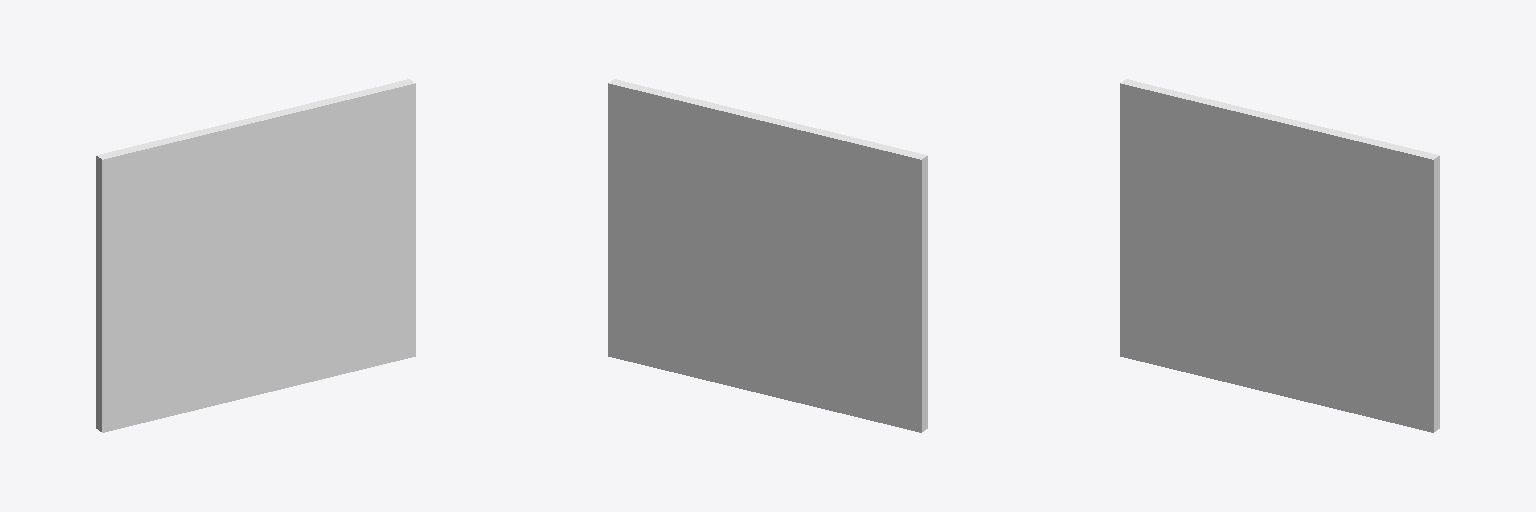
Rendered from panelQR.obj.
3 renders of one model, left to right at view 1: azimuth 30°, elevation 25°; view 2: azimuth 150°, elevation 25°; view 3: azimuth 330°, elevation 25°, orthographic.
Parts seen in each view (by area): view 1: object 1; view 2: object 1; view 3: object 1.
Boxes of the visible parts, <box> form: object 1: <box>96,79,415,432</box>; object 1: <box>608,79,927,432</box>; object 1: <box>1120,79,1439,432</box>.
Size of the model in its own units: 3 by 2.5 by 0.1.